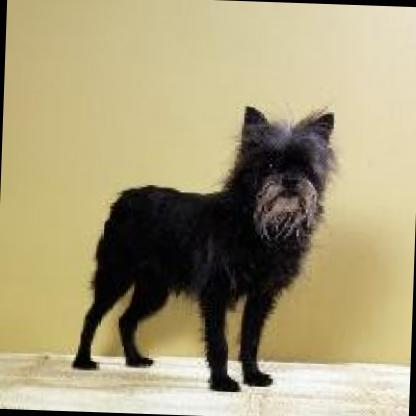affenpinscher: (69, 95, 334, 395)
